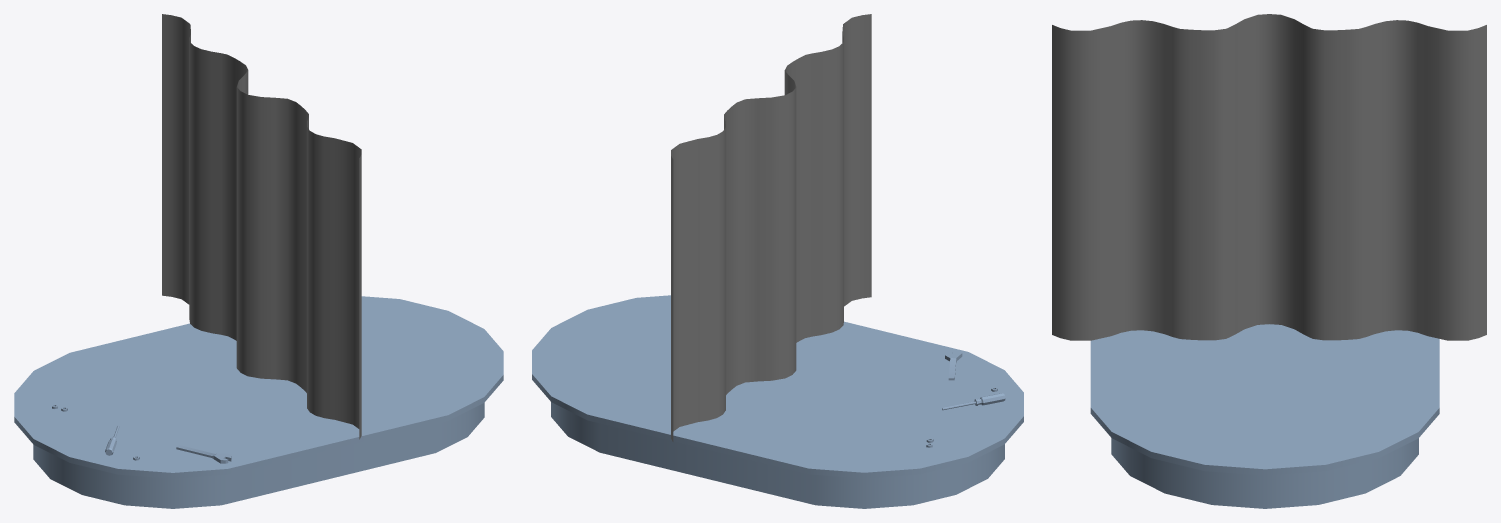
Rendered from SM_Garage.fbx.
The picture shows the model from 3 angles, left to right: view 1: azimuth 30°, elevation 25°; view 2: azimuth 150°, elevation 25°; view 3: azimuth 270°, elevation 25°; orthographic projection. The views are drawn at different scales.
Parts seen in each view (by area): view 1: GARAGE; view 2: GARAGE; view 3: GARAGE.
Boxes of the visible parts, x1,y1,x2,y2 form: GARAGE: [14, 14, 503, 508]; GARAGE: [532, 14, 1023, 508]; GARAGE: [1052, 14, 1486, 508].
Size of the model in its own units: 1519 by 1094 by 1152.
